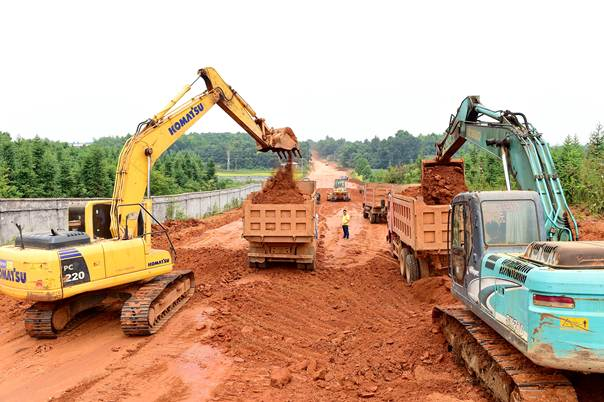excavator: (1, 58, 306, 360), (418, 91, 604, 402)
